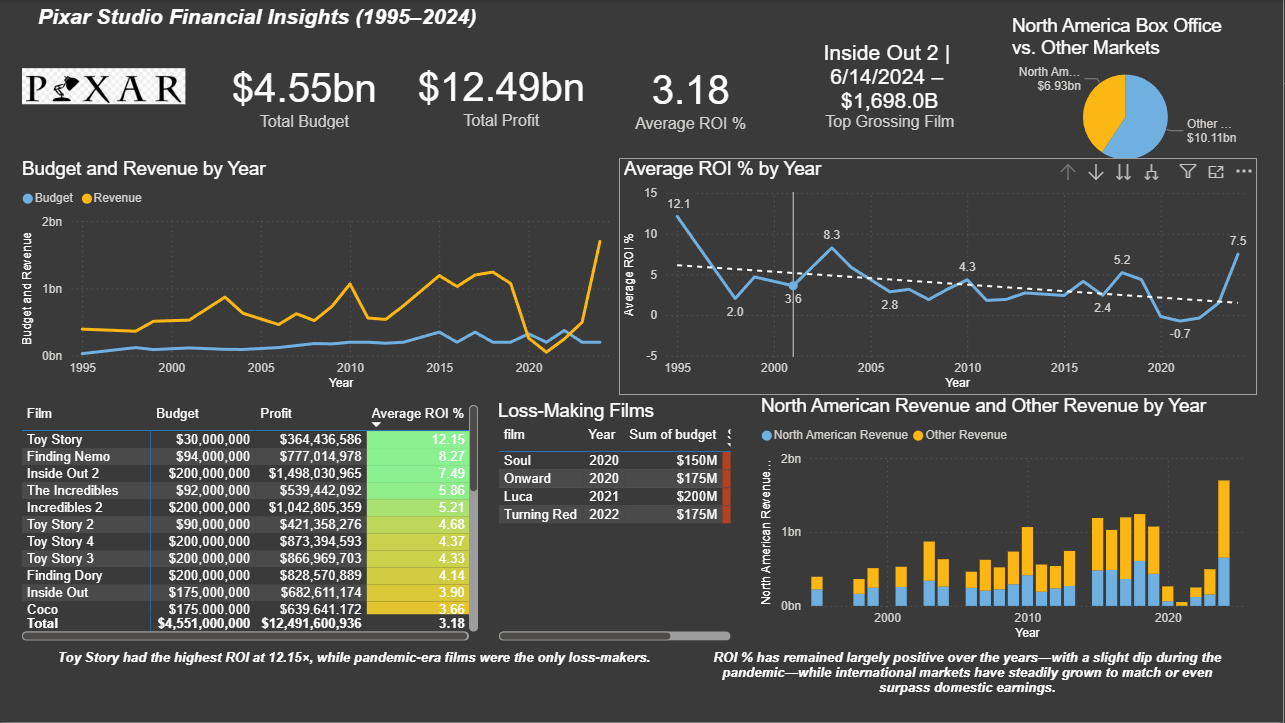

Layout of this report page (visuals, bound fields, positions):
{"tool":"powerbi","page":{"name":"Financial Overview","canvas":[1280,720],"ordinal":0},"visuals":[{"type":"card","fields":{"Values":["box_office.Total Budget"]},"box":[189.7,54.4,228.3,79],"z":0},{"type":"card","fields":{"Values":["box_office.Total Profit"]},"box":[408.3,51.8,184.4,83.4],"z":1000},{"type":"card","fields":{"Values":["box_office.Average ROI %"]},"box":[602.3,52.7,173,86],"z":2000},{"type":"card","fields":{"Values":["box_office.Top Grossing Film"]},"box":[791.1,27.2,193.2,111.5],"z":3000},{"type":"lineChart","fields":{"Category":["pixar_films.release_date.Variation.Date Hierarchy.Year","pixar_films.release_date.Variation.Date Hierarchy.Quarter","pixar_films.release_date.Variation.Date Hierarchy.Month","pixar_films.release_date.Variation.Date Hierarchy.Day"],"Y":["box_office.Budget Amount","box_office.Revenue Amount"]},"box":[16.7,158,600.6,236.2],"z":4000},{"type":"pivotTable","fields":{"Rows":["pixar_films.film"],"Values":["Sum(box_office.budget)","Sum(box_office.Profit)","box_office.Average ROI %"]},"box":[16.7,398.6,465.4,245],"z":5000},{"type":"pieChart","title":"North America Box Office vs. Other Markets","fields":{"Y":["Sum(box_office.box_office_other)","Sum(box_office.box_office_us_canada)"]},"box":[1004.5,14.9,236.2,161.6],"z":6000},{"type":"lineChart","fields":{"Category":["pixar_films.release_date.Variation.Date Hierarchy.Year","pixar_films.release_date.Variation.Date Hierarchy.Quarter","pixar_films.release_date.Variation.Date Hierarchy.Month","pixar_films.release_date.Variation.Date Hierarchy.Day"],"Y":["box_office.Average ROI %"]},"box":[617.3,158,636.6,236.2],"z":7000},{"type":"tableEx","title":"Loss-Making Films","fields":{"Values":["pixar_films.film","pixar_films.release_date.Variation.Date Hierarchy.Year","Sum(box_office.budget)","Sum(box_office.Profit)"]},"box":[491.7,398.6,242.3,245],"z":8000},{"type":"columnChart","fields":{"Category":["pixar_films.release_date.Variation.Date Hierarchy.Year"],"Y":["box_office.North American Revenue","box_office.Other Revenue"]},"box":[754.2,394.2,499.6,249.4],"z":9000},{"type":"image","box":[16.7,0,173,173],"z":10000},{"type":"textbox","box":[16.7,643.6,672.6,69.4],"z":11000},{"type":"textbox","box":[689.3,643.6,551.4,69.4],"z":12000},{"type":"textbox","box":[32.5,0,731.4,54.4],"z":13000}]}

Visuals, with their boxes in screenshot pixels (x1, y1, x2, y2), scaled from the page's 1280x720 canvas onto the 1285x723 screenshot:
card - box_office.Total Budget: region(190, 55, 420, 134)
card - box_office.Total Profit: region(410, 52, 595, 136)
card - box_office.Average ROI %: region(605, 53, 778, 139)
card - box_office.Top Grossing Film: region(794, 27, 988, 139)
lineChart - pixar_films.release_date.Variation.Date Hierarchy.Year x pixar_films.release_date.Variation.Date Hierarchy.Quarter: region(17, 159, 620, 396)
pivotTable - pixar_films.film x Sum(box_office.budget): region(17, 400, 484, 646)
"North America Box Office vs. Other Markets" pieChart: region(1008, 15, 1246, 177)
lineChart - pixar_films.release_date.Variation.Date Hierarchy.Year x pixar_films.release_date.Variation.Date Hierarchy.Quarter: region(620, 159, 1259, 396)
"Loss-Making Films" tableEx: region(494, 400, 737, 646)
columnChart - pixar_films.release_date.Variation.Date Hierarchy.Year x box_office.North American Revenue: region(757, 396, 1259, 646)
image: region(17, 0, 190, 174)
textbox: region(17, 646, 692, 716)
textbox: region(692, 646, 1246, 716)
textbox: region(33, 0, 767, 55)
